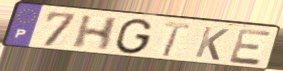7: (43, 10, 79, 48)
E: (227, 27, 275, 67)
G: (112, 18, 155, 56)
H: (70, 14, 122, 52)
K: (193, 25, 232, 62)
T: (160, 21, 193, 59)
